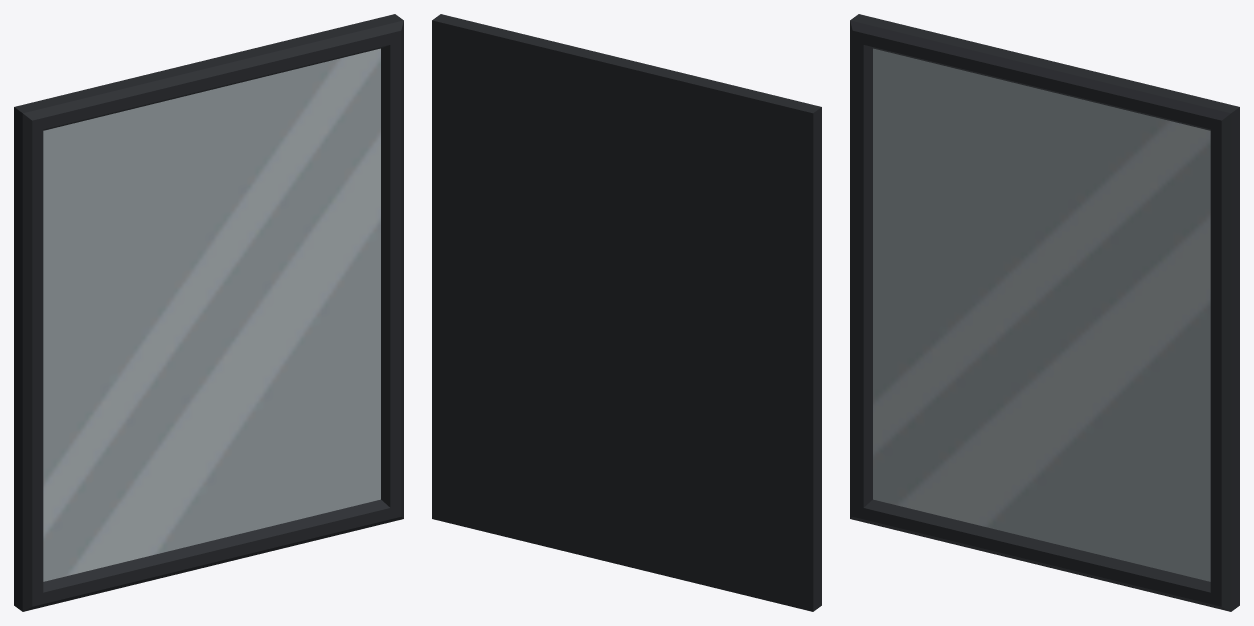
File: SM_Prop_Barber_Mirror_03.obj
The picture shows the model from 3 angles, left to right: view 1: azimuth 30°, elevation 25°; view 2: azimuth 150°, elevation 25°; view 3: azimuth 330°, elevation 25°; orthographic projection.
Visible parts, largest first — view 1: SM_Prop_Barber_Mirror_03_0; view 2: SM_Prop_Barber_Mirror_03_0; view 3: SM_Prop_Barber_Mirror_03_0.
Boxes of the visible parts, x1,y1,x2,y2 form: SM_Prop_Barber_Mirror_03_0: [14, 14, 403, 611]; SM_Prop_Barber_Mirror_03_0: [432, 14, 821, 611]; SM_Prop_Barber_Mirror_03_0: [850, 14, 1239, 611].
Bounding box in the file's own units: 1.44 × 1.81 × 0.0799.
1 material, 1 textured.
